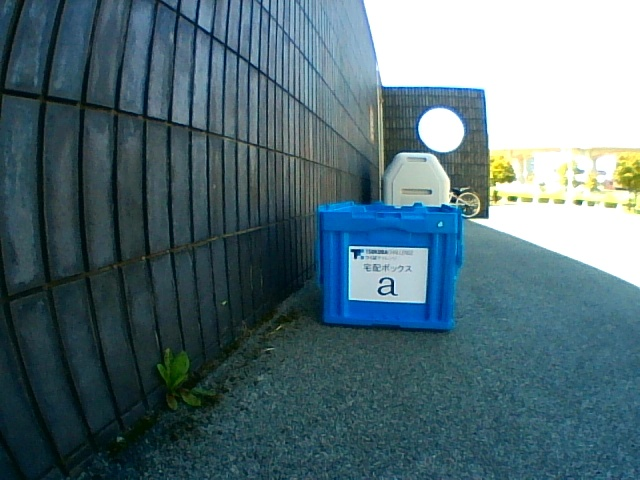blue_box: (316, 201, 463, 330)
tag_a: (351, 249, 425, 301)
